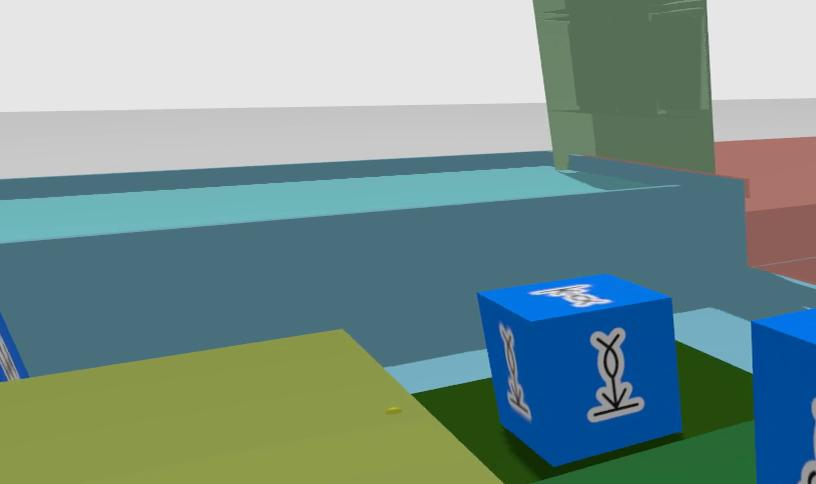KFS_REAL: (478, 274, 681, 465), (752, 308, 816, 484), (587, 328, 644, 422), (499, 324, 530, 420), (530, 283, 610, 307), (798, 398, 816, 484)
